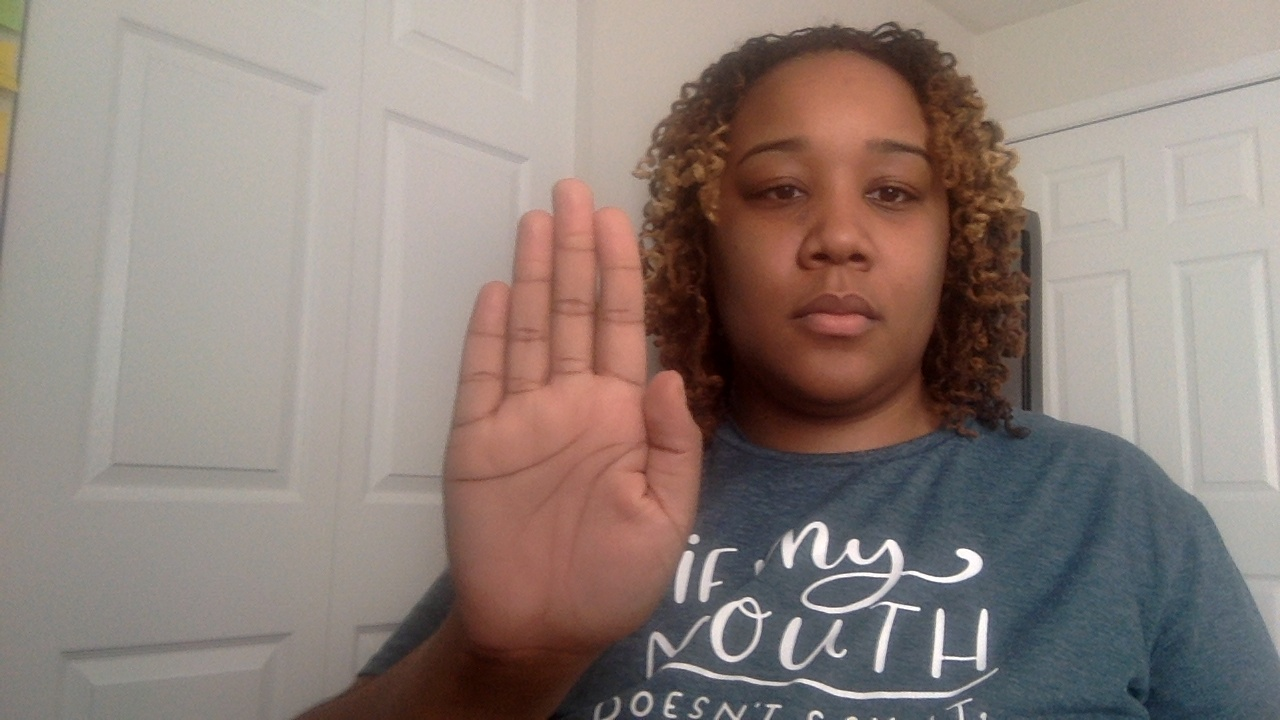hello: (383, 168, 710, 704)
